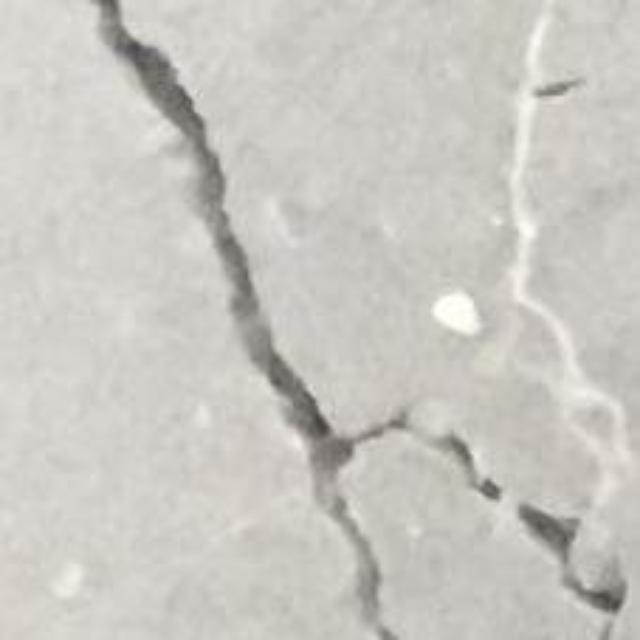crack: (94, 0, 422, 639)
peeling plaster: (432, 288, 484, 338)
